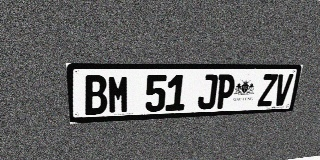1: (165, 75, 187, 111)
5: (145, 75, 167, 112)
B: (83, 75, 107, 115)
J: (197, 74, 218, 110)
M: (107, 75, 129, 114)
P: (215, 74, 236, 109)
V: (272, 74, 293, 106)
Z: (257, 74, 278, 107)
